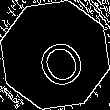O_NW: (23, 22, 87, 88)
